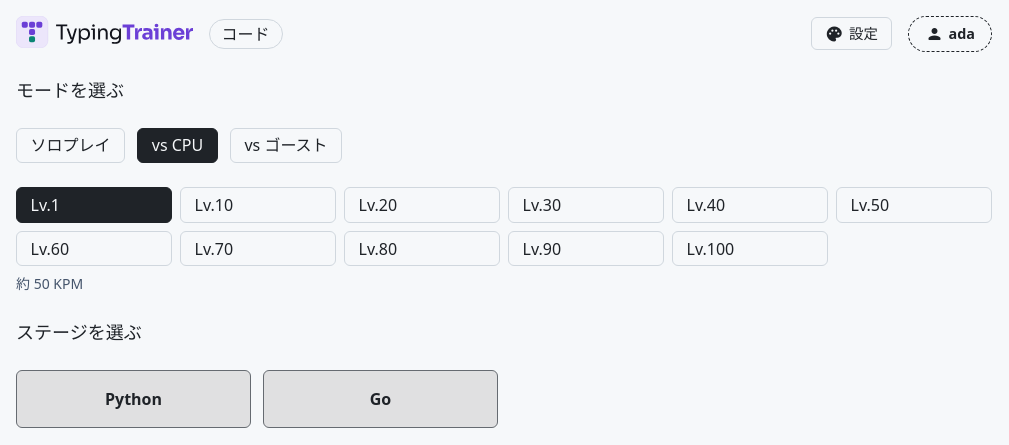
Test: the language screen in Japanese › shows the CPU level grid with its speed, in Japanese, as the default mode
Expected: the text "約 50 KPM" is shown, [16,274,83,293]
Click the button "Lv.100" at (750, 249), box [672,231,828,266]
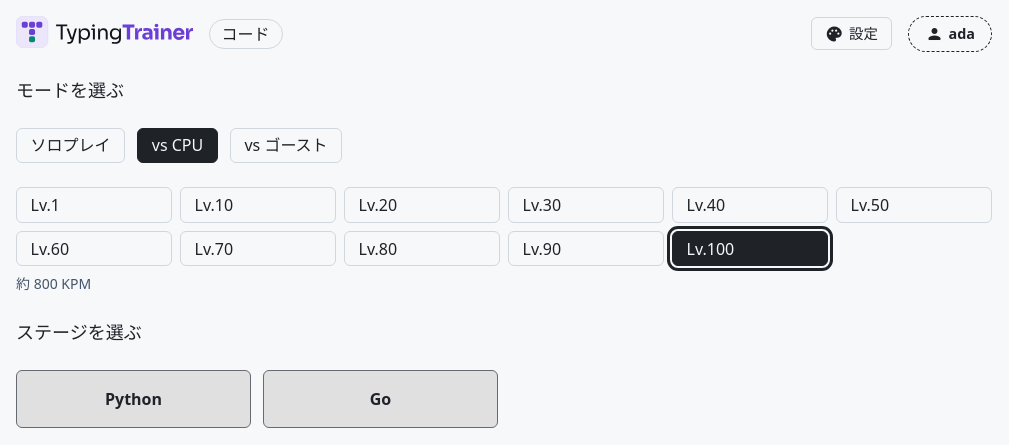
Result: the text "約 800 KPM" is shown at [16,274,91,293]
